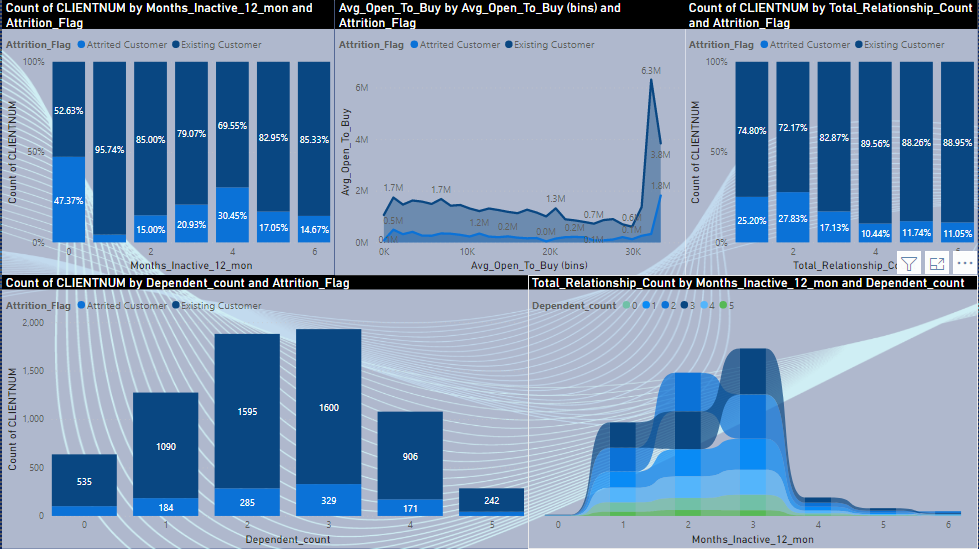

The page's visual inventory and layout, read from the dashboard file:
{"tool":"powerbi","page":{"name":"Months Inactive and Services","canvas":[1280,720],"ordinal":4},"visuals":[{"type":"hundredPercentStackedColumnChart","fields":{"Category":["BankChurners.Months_Inactive_12_mon"],"Y":["CountNonNull(BankChurners.CLIENTNUM)"],"Series":["BankChurners.Attrition_Flag"]},"box":[0,0,436.3,360.6],"z":0},{"type":"columnChart","fields":{"Category":["BankChurners.Dependent_count"],"Y":["CountNonNull(BankChurners.CLIENTNUM)"],"Series":["BankChurners.Attrition_Flag"]},"box":[0,360.6,689.5,359.2],"z":1000},{"type":"stackedAreaChart","fields":{"Category":["BankChurners.Avg_Open_To_Buy (bins)"],"Y":["Sum(BankChurners.Avg_Open_To_Buy)"],"Series":["BankChurners.Attrition_Flag"]},"box":[436.3,0,459.7,360.6],"z":2000},{"type":"hundredPercentStackedColumnChart","fields":{"Y":["CountNonNull(BankChurners.CLIENTNUM)"],"Category":["BankChurners.Total_Relationship_Count"],"Series":["BankChurners.Attrition_Flag"]},"box":[896,0,384,360.6],"z":3000},{"type":"ribbonChart","fields":{"Y":["Sum(BankChurners.Total_Relationship_Count)"],"Category":["BankChurners.Months_Inactive_12_mon"],"Series":["BankChurners.Dependent_count"]},"box":[689.5,360.6,590.5,359.2],"z":4000}]}

Visuals, with their boxes in screenshot pixels (x1, y1, x2, y2), scaled from the page's 1280x720 canvas onto the 979x549 screenshot:
hundredPercentStackedColumnChart - BankChurners.Months_Inactive_12_mon x CountNonNull(BankChurners.CLIENTNUM): [0,0,334,275]
columnChart - BankChurners.Dependent_count x CountNonNull(BankChurners.CLIENTNUM): [0,275,527,548]
stackedAreaChart - BankChurners.Avg_Open_To_Buy (bins) x Sum(BankChurners.Avg_Open_To_Buy): [334,0,685,275]
hundredPercentStackedColumnChart - CountNonNull(BankChurners.CLIENTNUM) x BankChurners.Total_Relationship_Count: [685,0,978,275]
ribbonChart - Sum(BankChurners.Total_Relationship_Count) x BankChurners.Months_Inactive_12_mon: [527,275,978,548]
